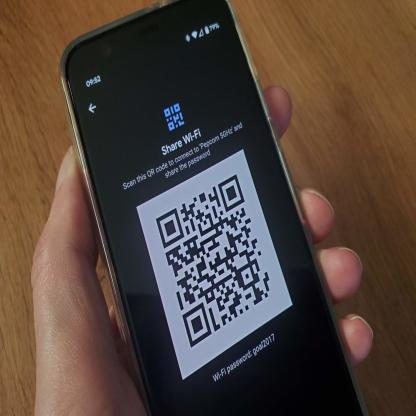qr_code: (156, 171, 272, 348)
